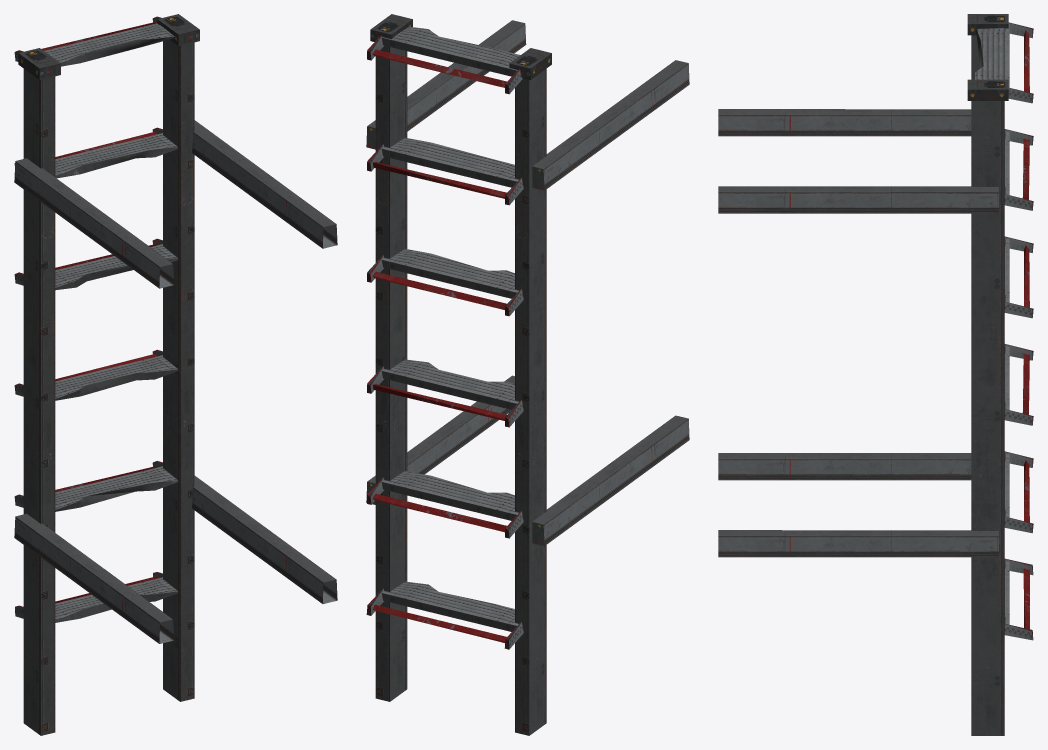
The model's file is ARC0910179.fbx.
3 renders of one model, left to right at view 1: azimuth 30°, elevation 25°; view 2: azimuth 150°, elevation 25°; view 3: azimuth 270°, elevation 25°, orthographic. The views are drawn at different scales.
Visible parts, largest first — view 1: smARC0910179; view 2: smARC0910179; view 3: smARC0910179.
Boxes of the visible parts, x1,y1,x2,y2 form: smARC0910179: (14, 14, 337, 735); smARC0910179: (366, 14, 689, 735); smARC0910179: (718, 14, 1033, 735).
Size of the model in its own units: 83.94 by 301 by 133.
Materials: 1 (1 with a texture image).
